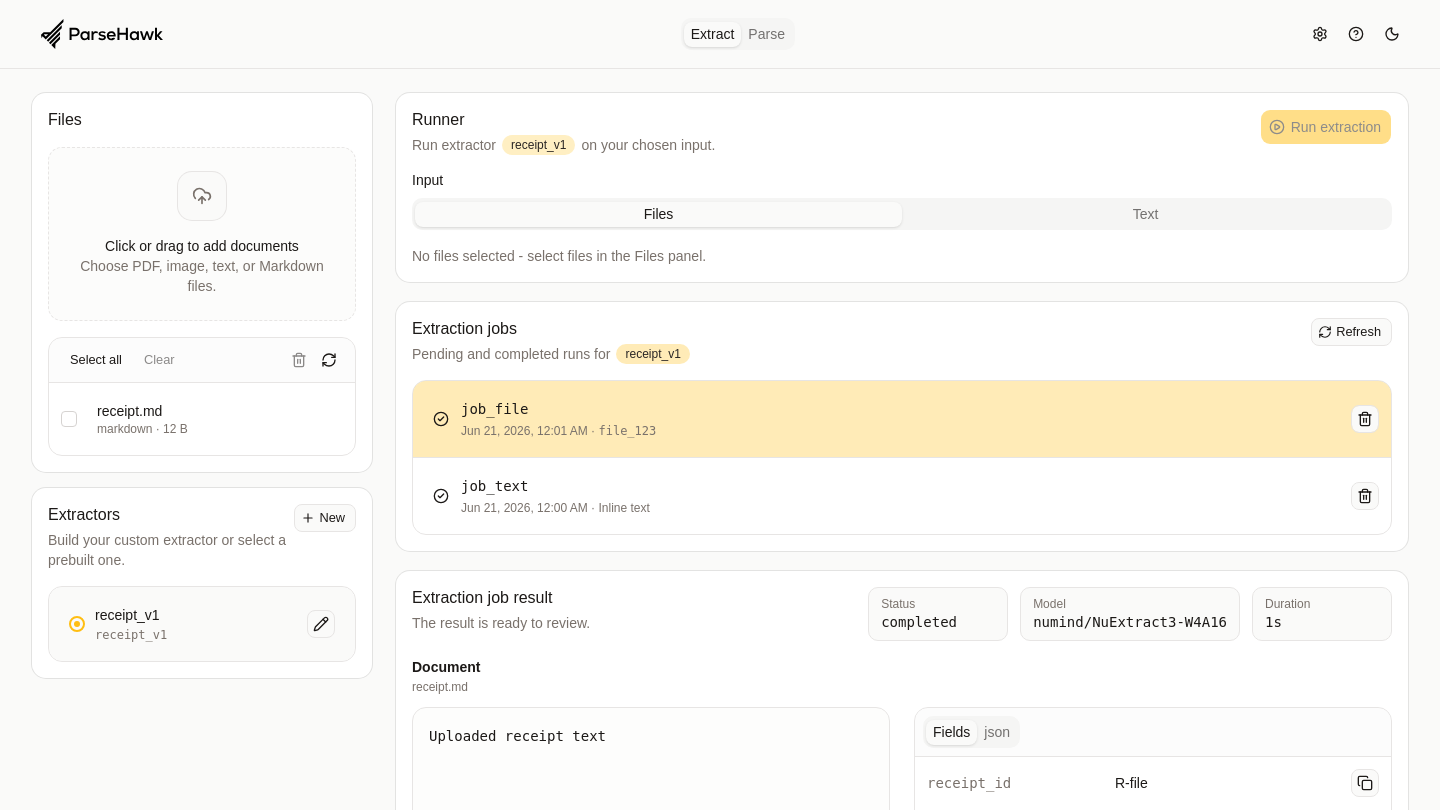
App run workflow › switches the input preview when selecting file and text jobs from history
Expected: the 1st text "receipt.md" is shown, [97,401,162,421]
Expected: the text "Uploaded receipt text" is shown, [429,728,606,744]
Click the button named "Copy job ID job_text": (524, 508) [433,476,1379,515]
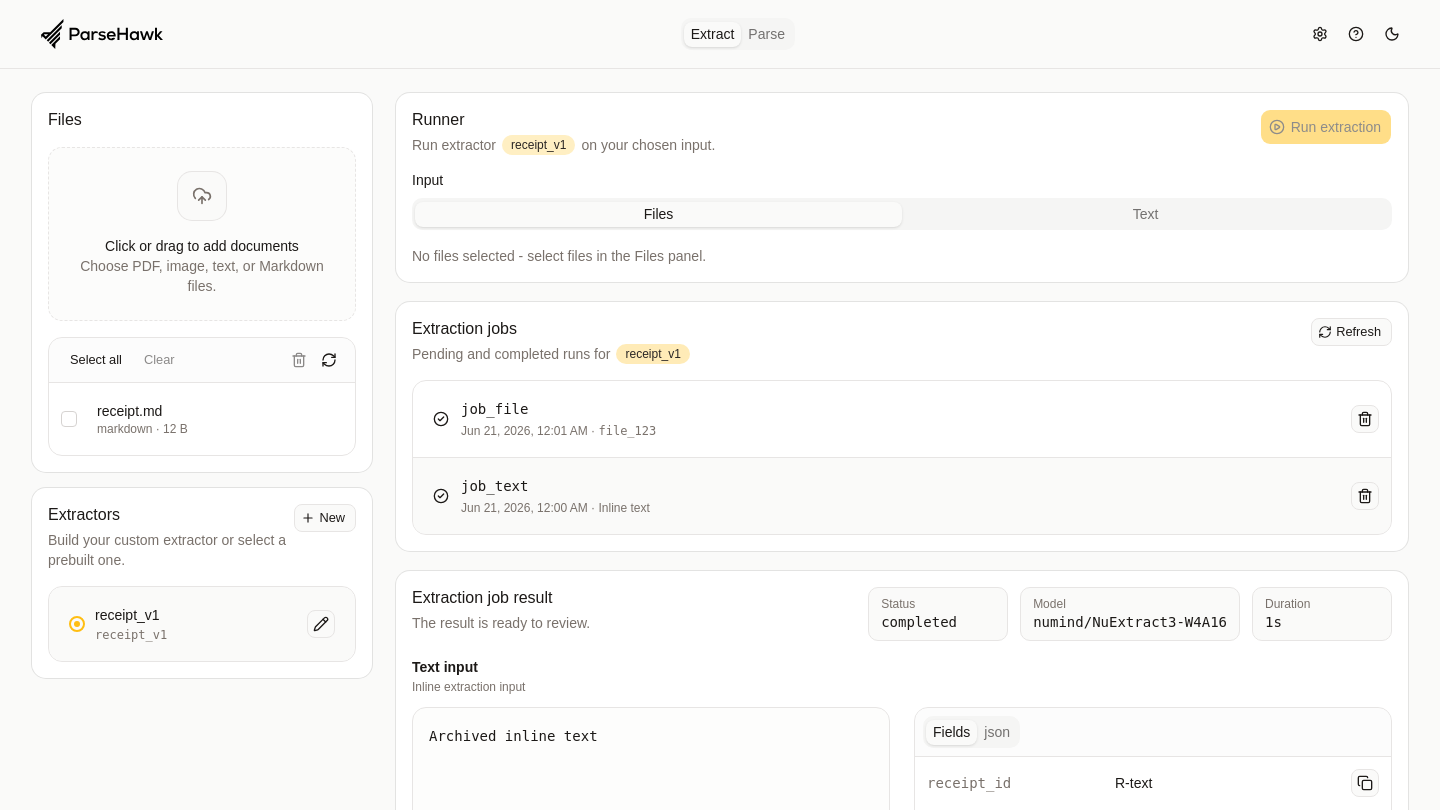
Expected: the button named "Copy receipt_id" is shown, [1351,769,1379,797]
Expected: the heading "Text input" is shown, [412,659,478,675]
Expected: the text "Archived inline text" is shown, [429,728,598,744]
